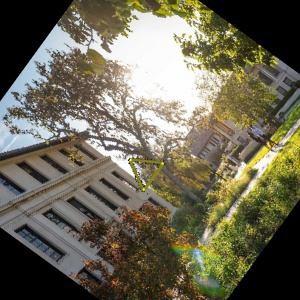triangle: (126, 156, 166, 193)
